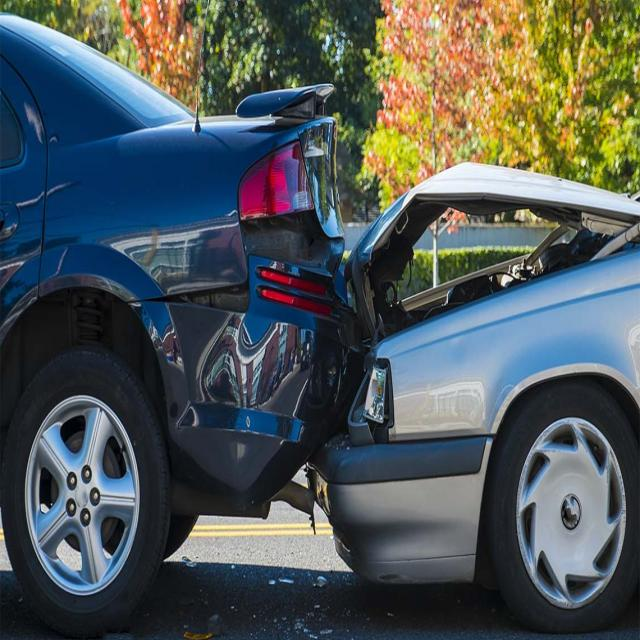accident: (0, 15, 365, 633), (308, 165, 640, 631)
